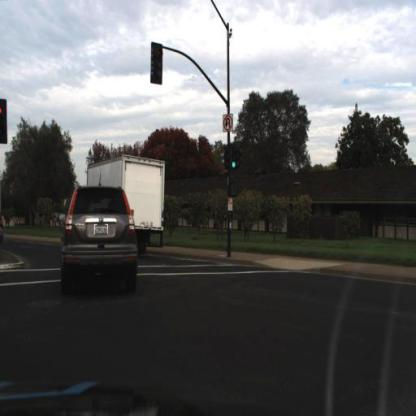car: (59, 186, 139, 293)
trafficLight-Green: (230, 144, 240, 175), (232, 149, 237, 172)
trafficLight-Red: (151, 40, 165, 90), (152, 41, 163, 86)
truck: (85, 153, 168, 255)
